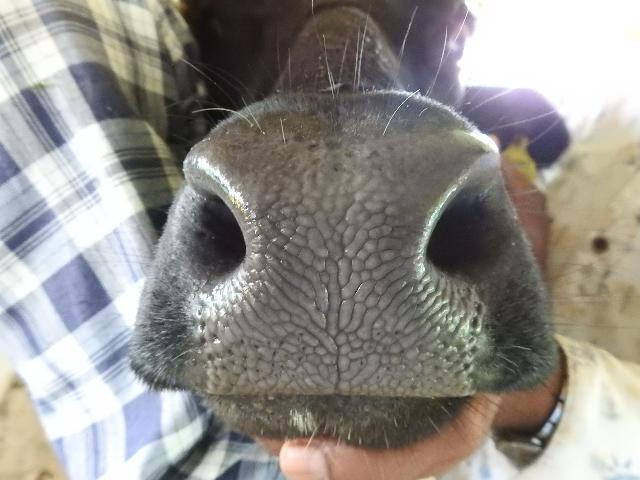Muzzle: (212, 142, 440, 396)
